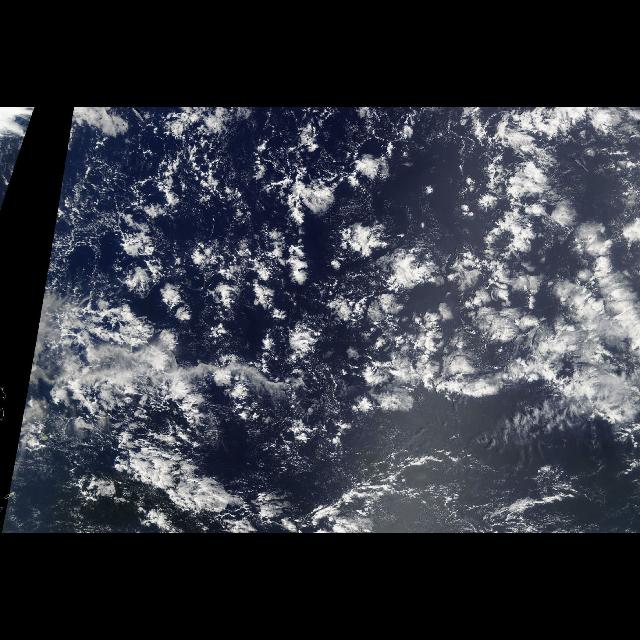Flower: (128, 144, 636, 412)
